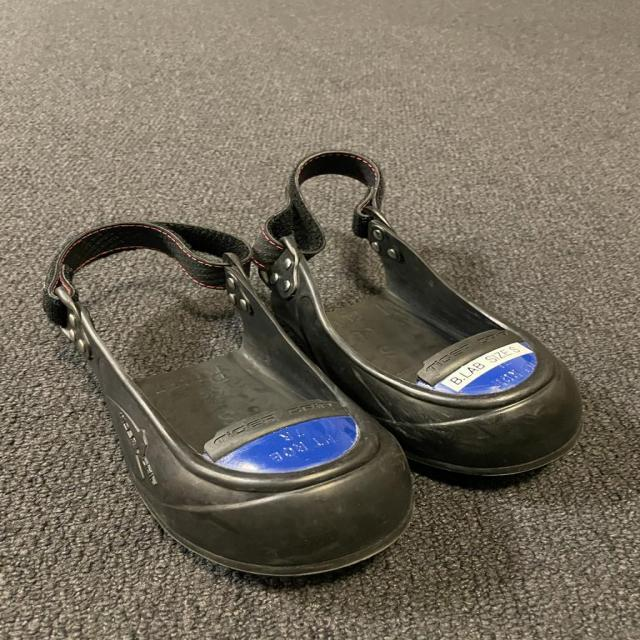shoes: (40, 216, 422, 581), (224, 152, 592, 470)
